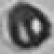correct: (6, 2, 52, 50)
